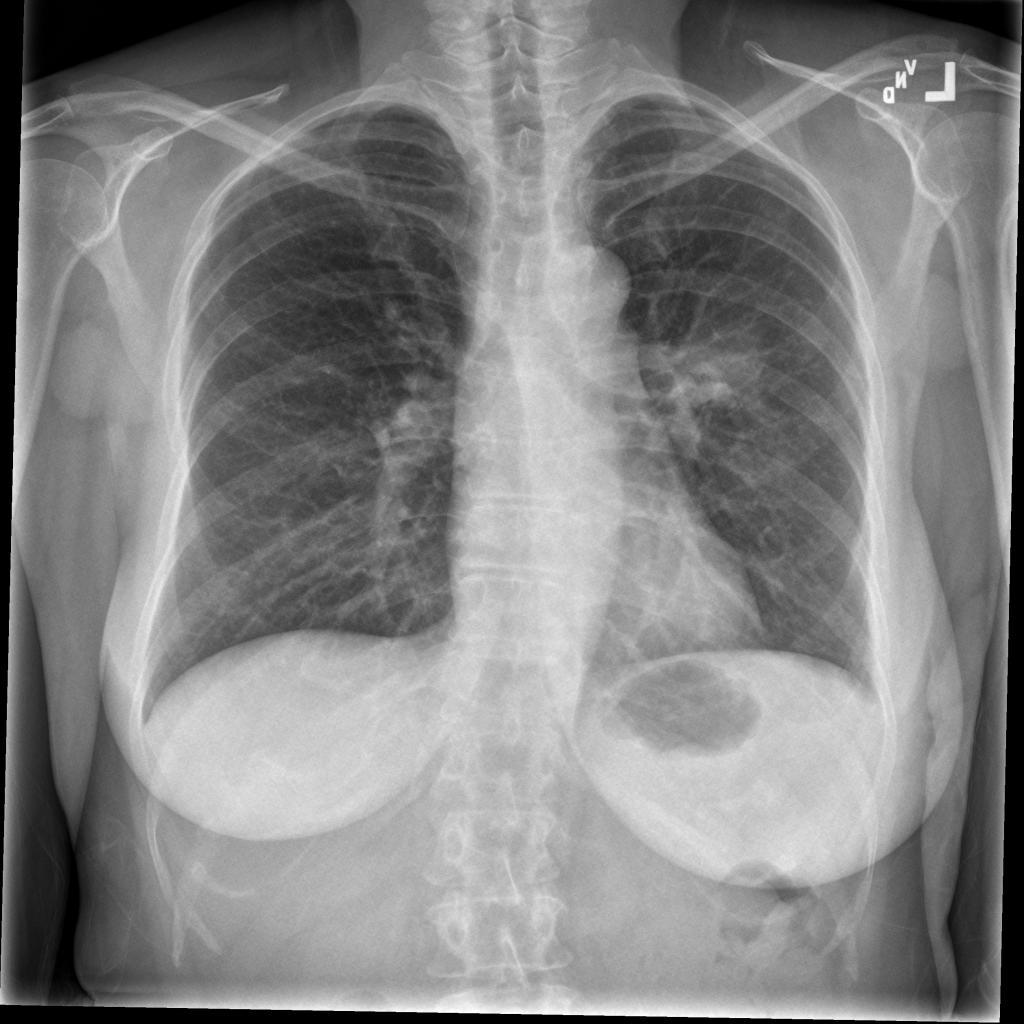Nodule: (276, 123, 313, 150)
